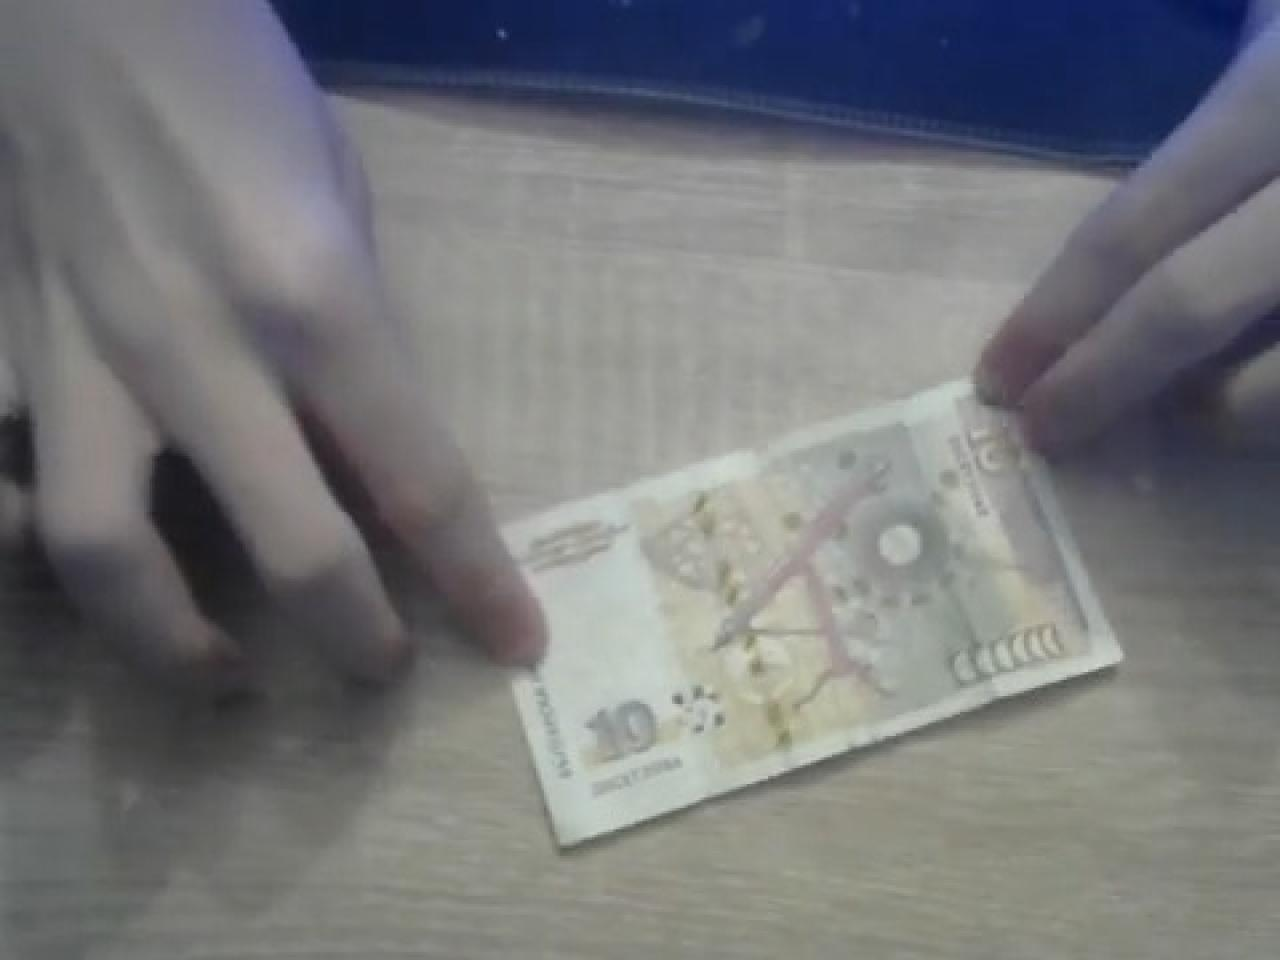10leva: (501, 381, 1126, 853)
